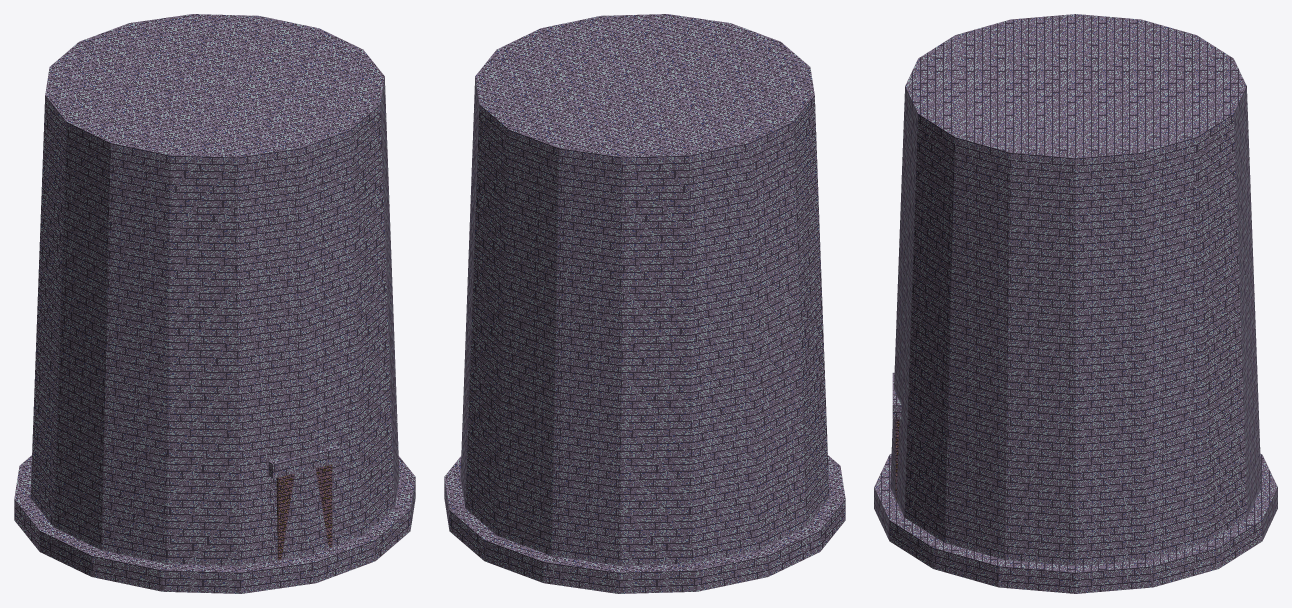
Rendered from base_torre.glb.
The picture shows the model from 3 angles, left to right: view 1: azimuth 30°, elevation 25°; view 2: azimuth 150°, elevation 25°; view 3: azimuth 270°, elevation 25°; orthographic projection.
Visible parts, largest first — view 1: base_torre; view 2: base_torre; view 3: base_torre.
Boxes of the visible parts, x1=… form: base_torre: x1=14, y1=14, x2=415, y2=593; base_torre: x1=444, y1=14, x2=845, y2=593; base_torre: x1=874, y1=14, x2=1277, y2=593.
Bounding box in the file's own units: 26 × 30 × 26.
Materials: 2 (2 with a texture image).
